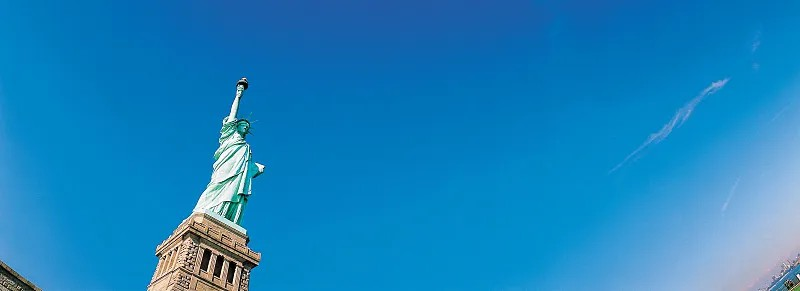SL: (147, 77, 265, 291)
